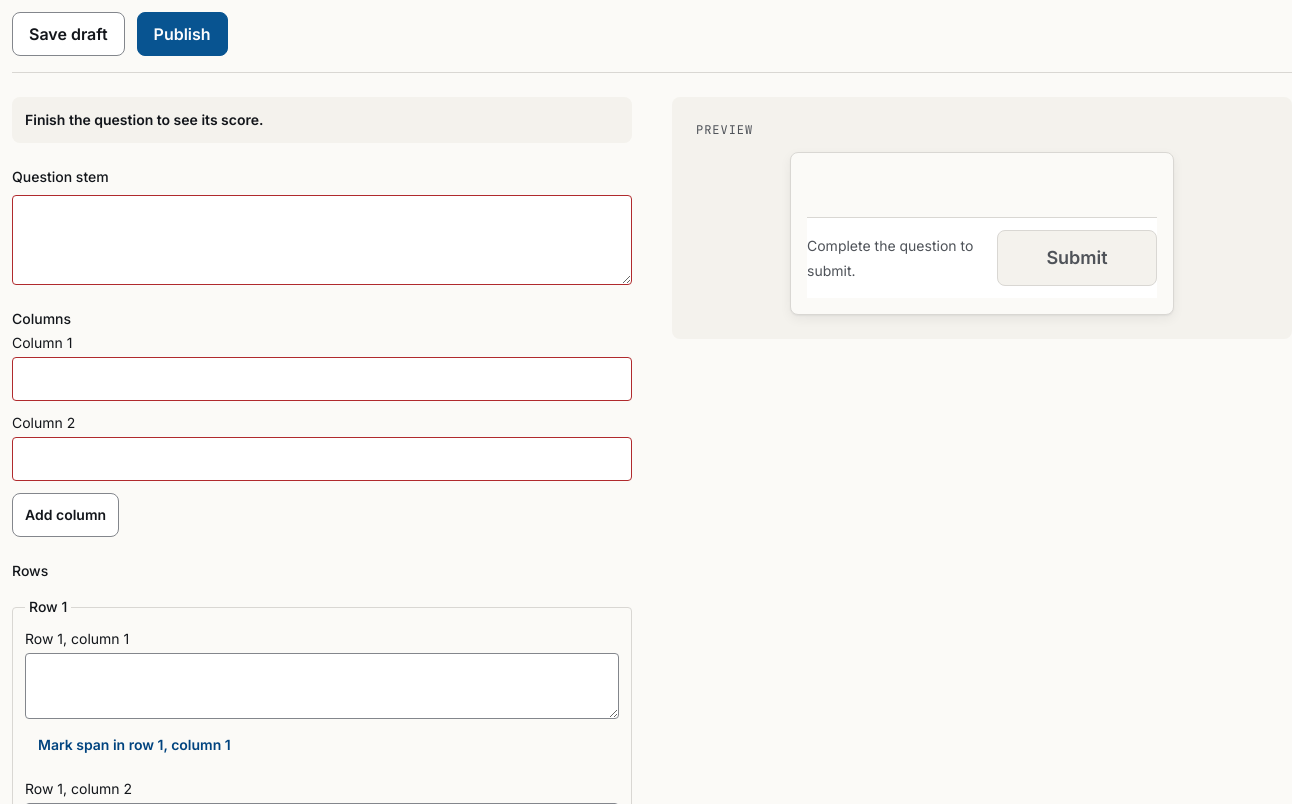
it: HighlightTableEditor › adds and removes a column, keeping every row in step
The width and height of the screenshot is (1292, 804).
Click the button "Add column": (66, 515) [12, 493, 119, 537]
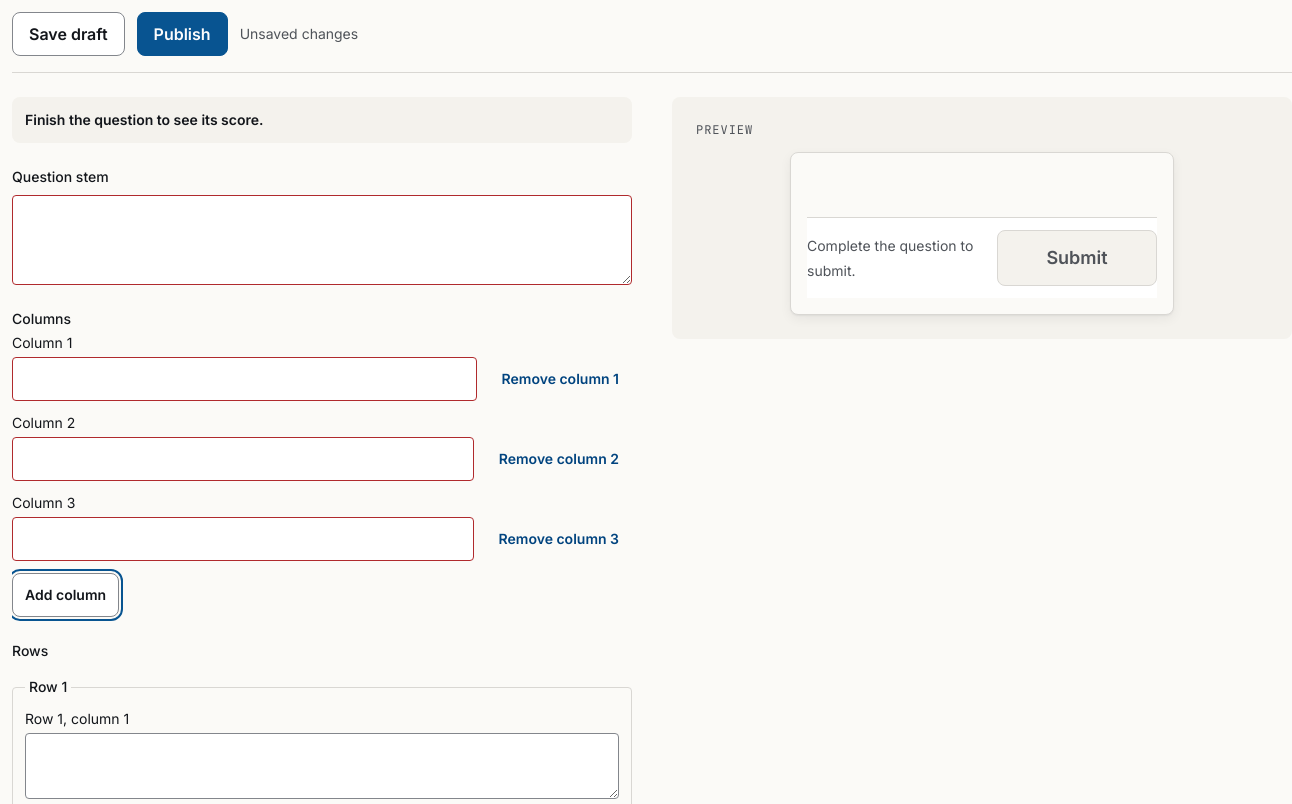
Now the field labelled "Column 3" is shown, box [12, 517, 474, 561]
Click the button "Remove column 3": (559, 539) [486, 517, 632, 561]
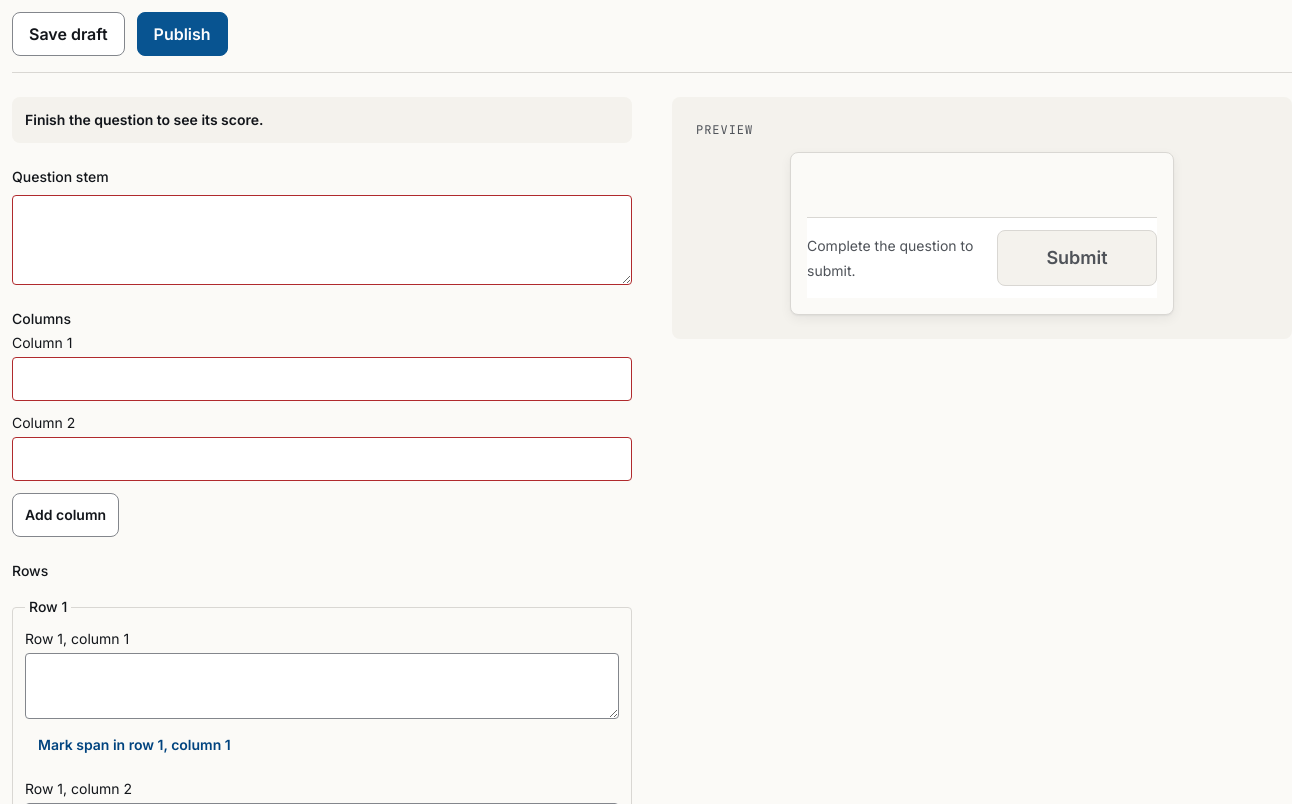
Now the label "Column 3" is gone
